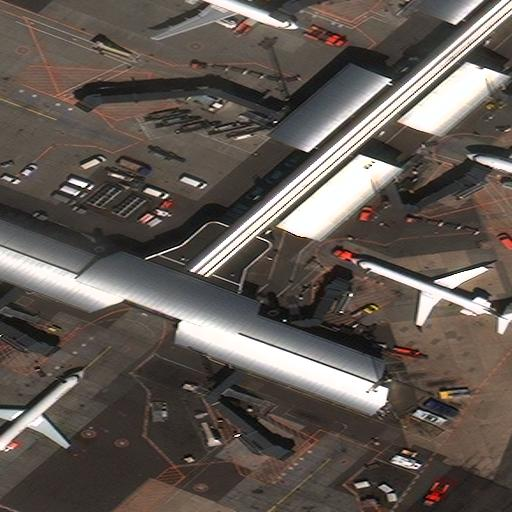Medium Civil Transport: (349, 256, 512, 327), (0, 367, 84, 461), (146, 0, 299, 39)
